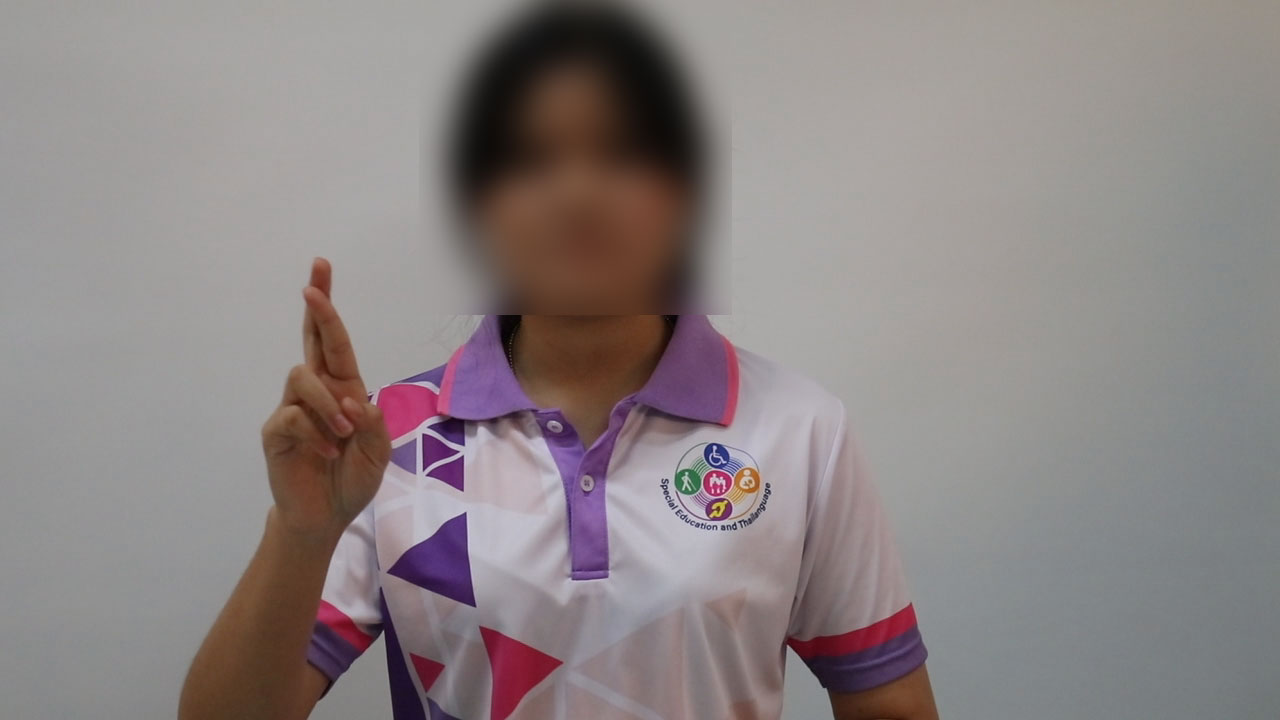rao: (238, 251, 394, 541)
